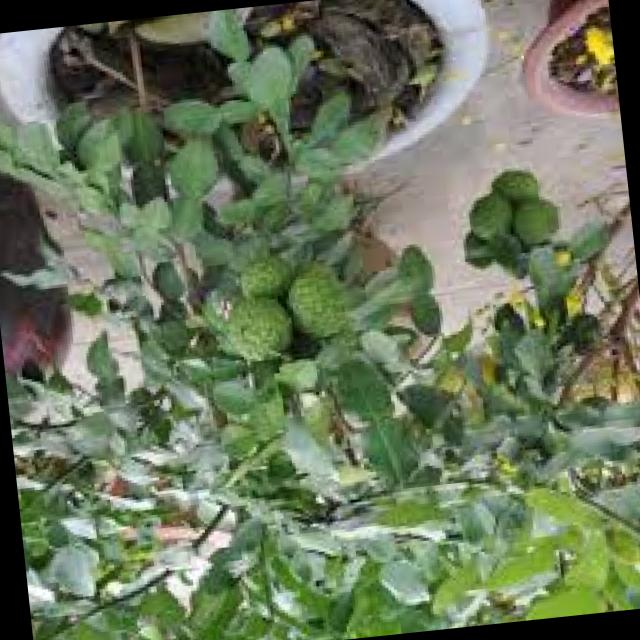Chuc: (284, 258, 352, 344), (222, 290, 297, 366), (238, 249, 298, 301), (462, 188, 514, 244), (478, 162, 544, 206), (508, 195, 558, 248)
